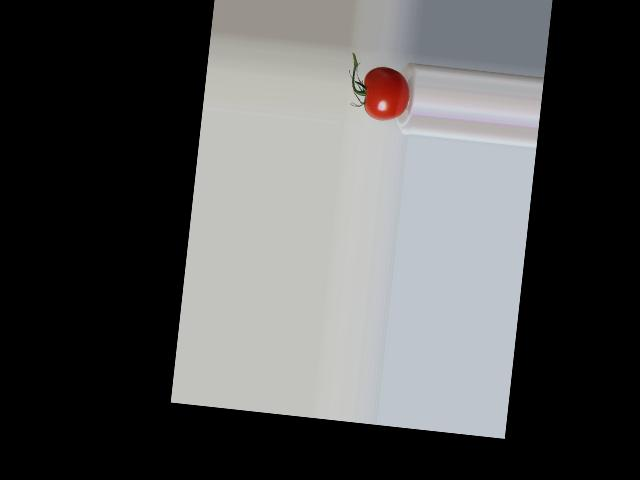tomato: (360, 64, 412, 122)
